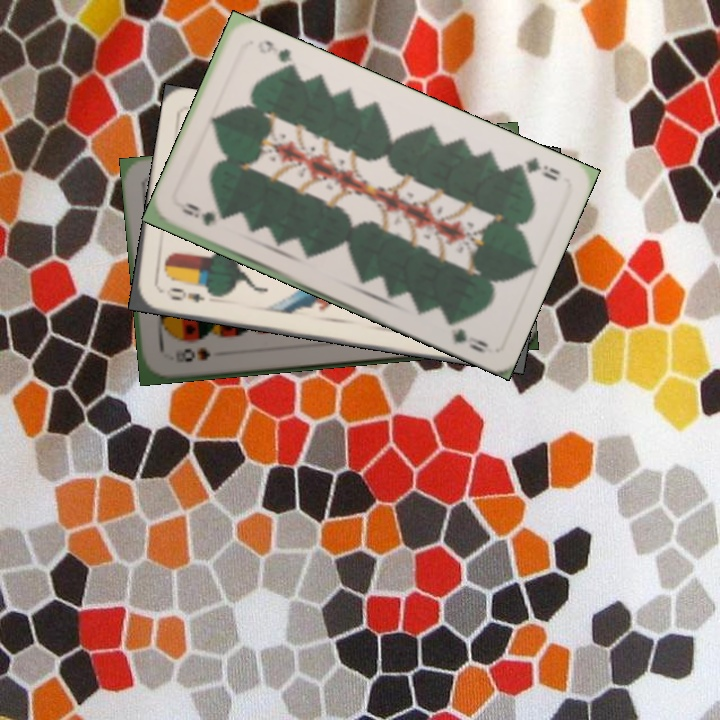EO: (166, 283, 208, 305)
G9: (509, 152, 564, 184), (177, 201, 219, 229)
S8: (171, 344, 213, 365)
